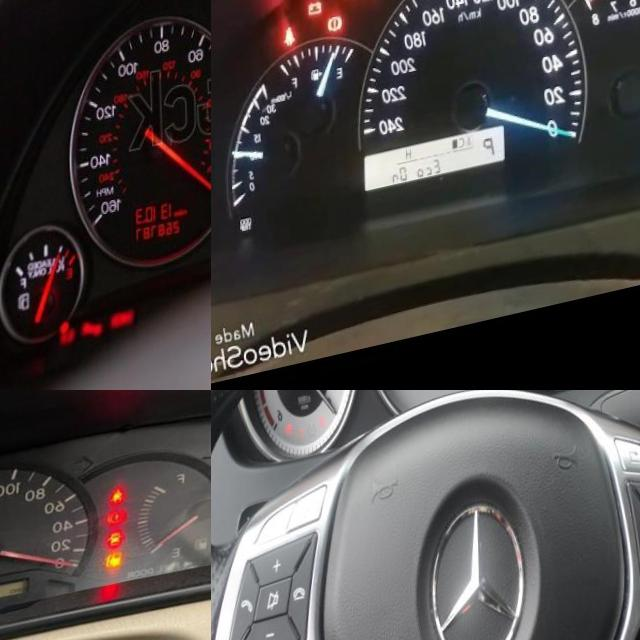Seat Belt: (109, 508, 124, 526), (282, 31, 294, 52)
